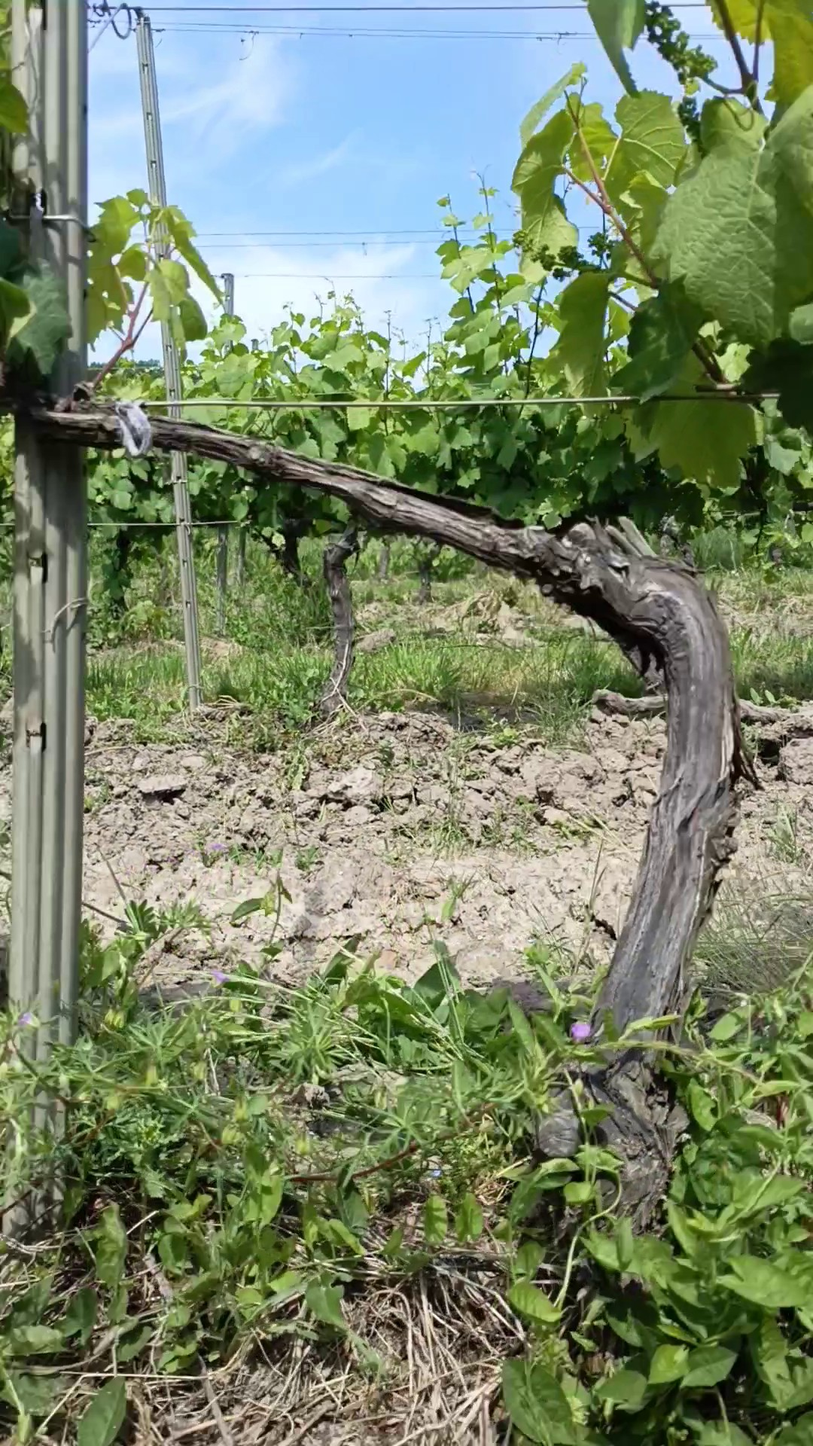vine_trunk: (303, 463, 755, 1222)
